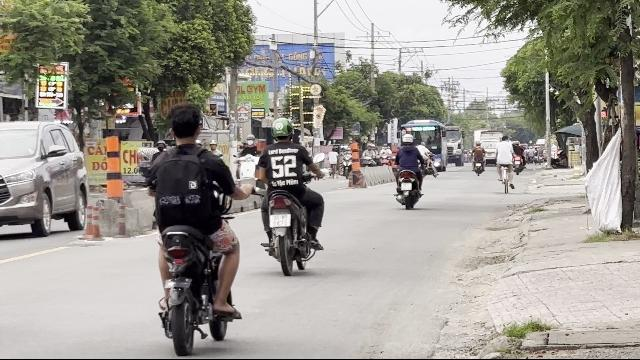helmet: (270, 116, 294, 142)
licenseplate: (270, 214, 290, 227)
motorcyclist: (142, 100, 245, 356), (254, 114, 326, 274)
nohelmet: (167, 105, 205, 145)
